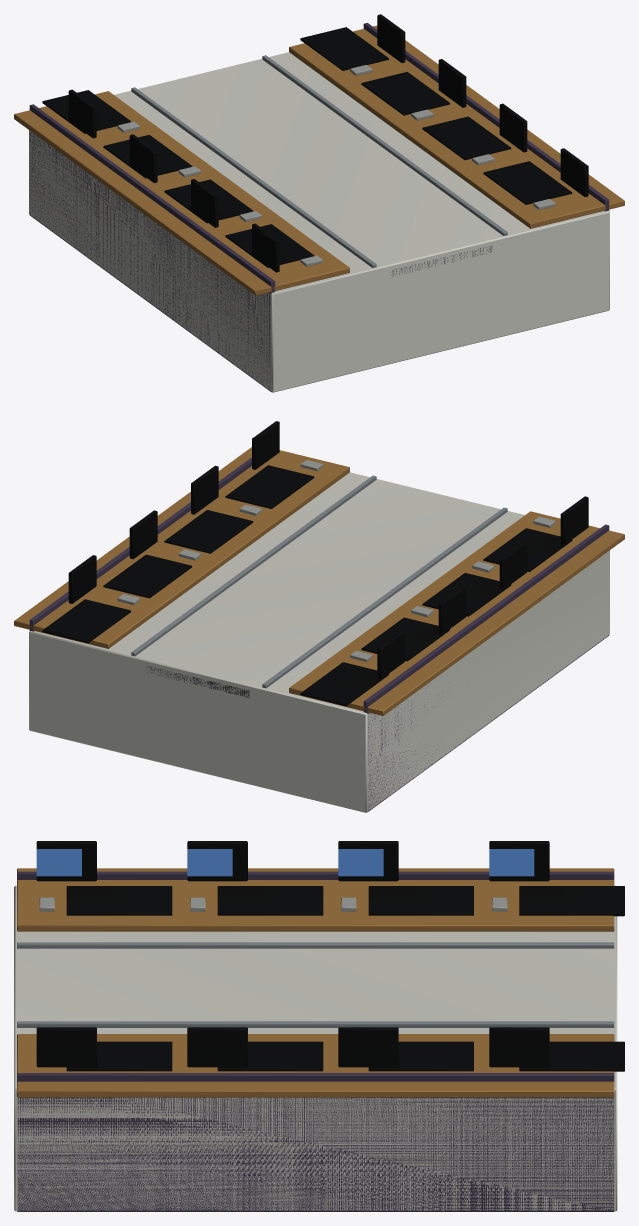
File: ap-checkin-island.glb
3 views of the same model, one above another, from view 1: azimuth 30°, elevation 25°; view 2: azimuth 150°, elevation 25°; view 3: azimuth 270°, elevation 25° (orthographic). The views are drawn at different scales.
Parts seen in each view (by area): view 1: body__paint, desk-top__wood, belts__rubber, pos__plastic, steel__steel; view 2: body__paint, desk-top__wood, belts__rubber, pos__plastic, steel__steel; view 3: body__paint, desk-top__wood, belts__rubber, pos__plastic, steel__steel, screens__screen.
Part boxes in pixels (x1,y1,x2,y2): body__paint: [29, 23, 609, 392]; desk-top__wood: [14, 25, 624, 295]; belts__rubber: [42, 27, 572, 267]; pos__plastic: [68, 14, 588, 272]; steel__steel: [131, 55, 507, 275]; body__paint: [29, 457, 609, 812]; desk-top__wood: [14, 447, 624, 715]; belts__rubber: [42, 465, 572, 706]; pos__plastic: [68, 421, 588, 679]; steel__steel: [131, 475, 507, 697]; body__paint: [14, 871, 617, 1211]; desk-top__wood: [17, 868, 614, 1097]; belts__rubber: [66, 886, 624, 1071]; pos__plastic: [36, 841, 549, 1067]; steel__steel: [17, 942, 614, 1027]; screens__screen: [36, 849, 534, 876].
Bounding box in the file's own units: 3.5 × 1.28 × 4.05.
